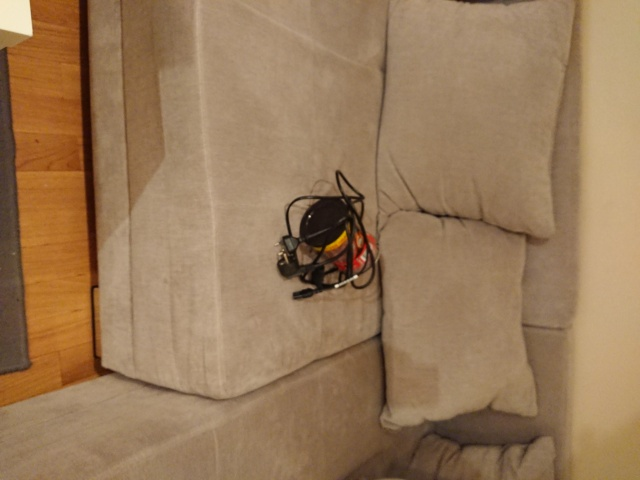Nescafe Classic 225g: (297, 193, 383, 279)
